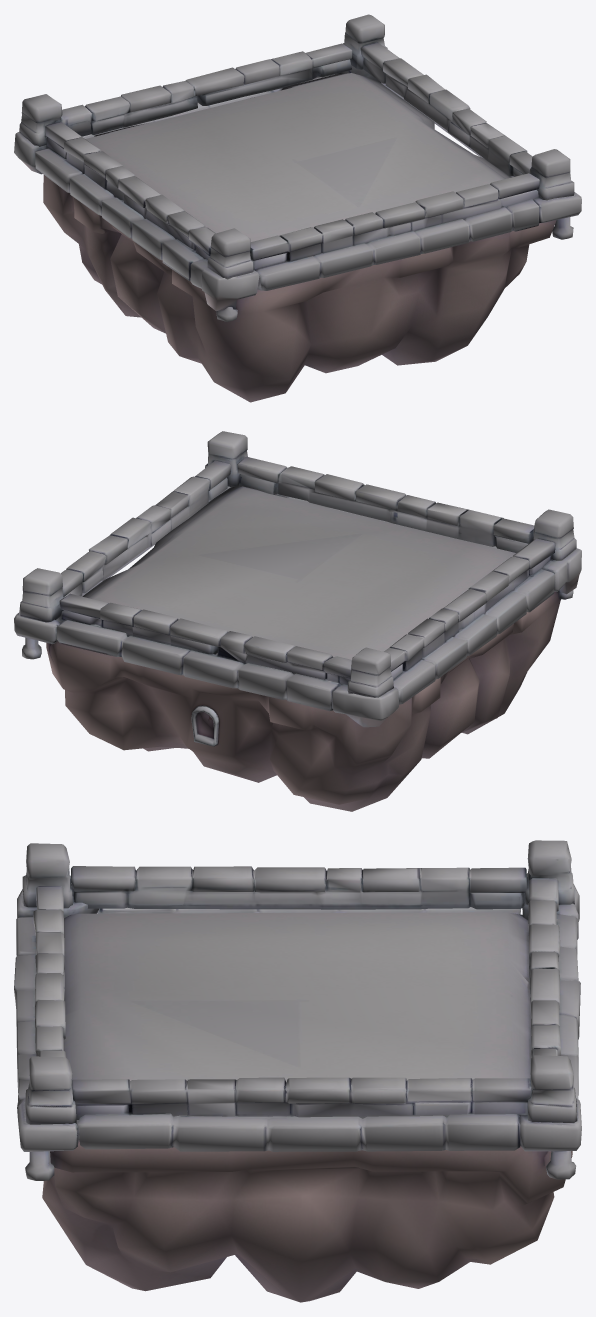
Rendered from island.glb.
The picture shows the model from 3 angles, top to bottom: view 1: azimuth 30°, elevation 25°; view 2: azimuth 150°, elevation 25°; view 3: azimuth 270°, elevation 25°; orthographic projection. The views are drawn at different scales.
Visible parts, largest first — view 1: tripo_node_7f5123d5-dde0-42bc-837d-efdf9db8aeb2; view 2: tripo_node_7f5123d5-dde0-42bc-837d-efdf9db8aeb2; view 3: tripo_node_7f5123d5-dde0-42bc-837d-efdf9db8aeb2.
Boxes of the visible parts, x1=… form: tripo_node_7f5123d5-dde0-42bc-837d-efdf9db8aeb2: x1=14, y1=14, x2=581, y2=402; tripo_node_7f5123d5-dde0-42bc-837d-efdf9db8aeb2: x1=14, y1=431, x2=581, y2=811; tripo_node_7f5123d5-dde0-42bc-837d-efdf9db8aeb2: x1=14, y1=840, x2=581, y2=1302.
Bounding box in the file's own units: 1.4 × 0.7661 × 1.38.
1 material, 1 textured.
